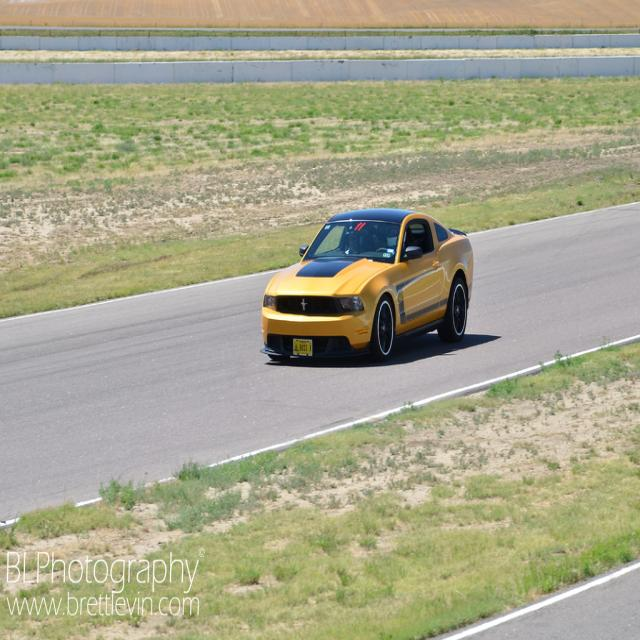car: (256, 206, 483, 366)
